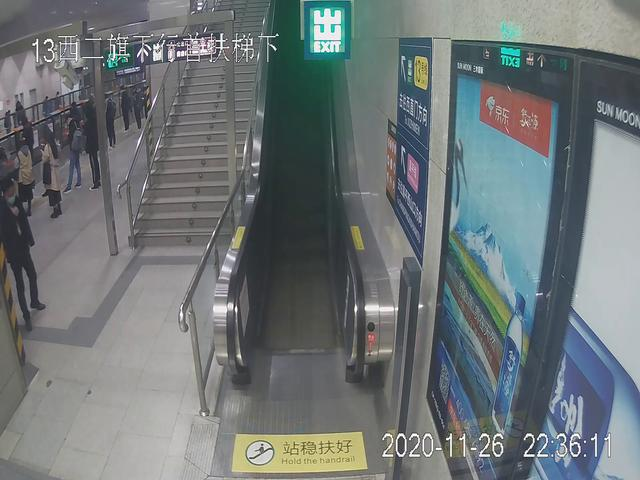person: (3, 177, 49, 330), (11, 135, 41, 221), (77, 103, 107, 185), (38, 125, 63, 217), (58, 116, 83, 193)
